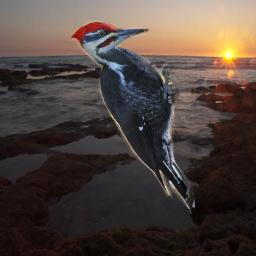Woodpecker: (69, 20, 195, 214)
